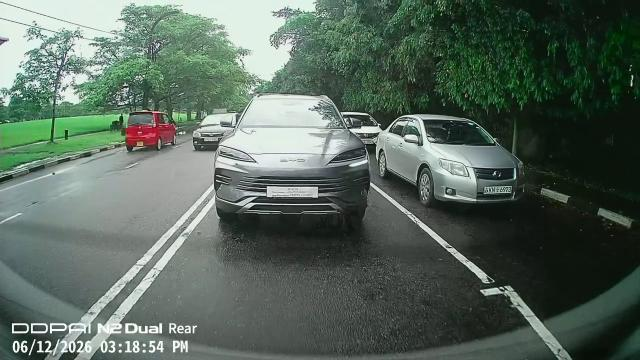number plate: (473, 180, 518, 198)
